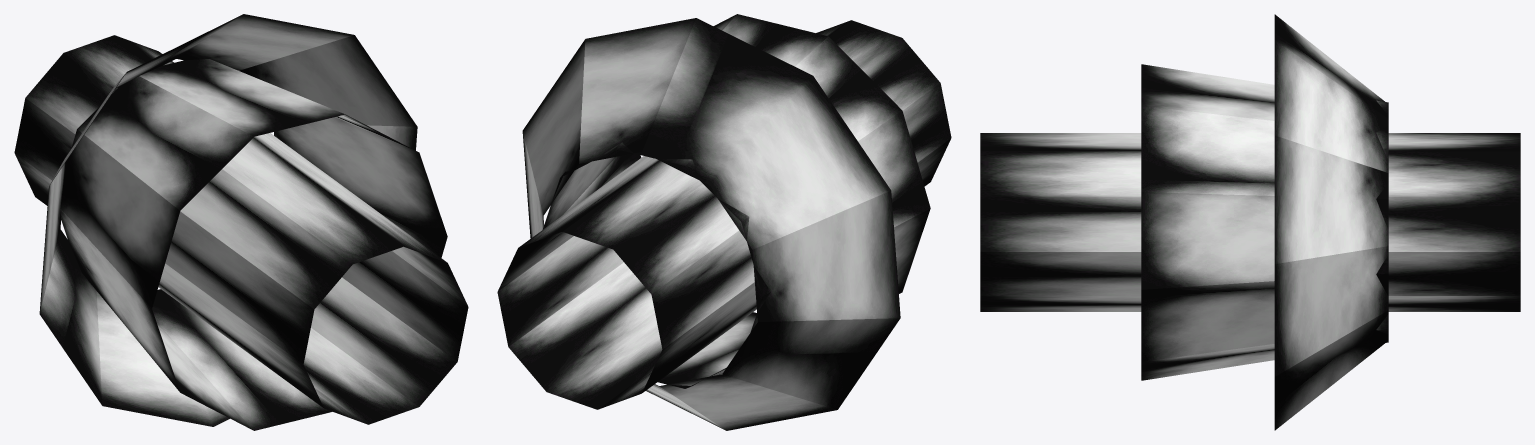
Rendered from tx_boss_guangzhifennu_fire.obj.
3 renders of one model, left to right at view 1: azimuth 30°, elevation 25°; view 2: azimuth 150°, elevation 25°; view 3: azimuth 270°, elevation 25°, orthographic. The views are drawn at different scales.
Parts seen in each view (by area): view 1: Cone02, Cone03, Cone01; view 2: Cone01, Cone02, Cone03; view 3: Cone02, Cone03, Cone01.
Part boxes in pixels (left/top/right/bottom): Cone02: left=14, top=35, right=468, bottom=424; Cone03: left=60, top=59, right=447, bottom=430; Cone01: left=39, top=14, right=417, bottom=426; Cone01: left=522, top=18, right=900, bottom=430; Cone02: left=497, top=20, right=951, bottom=409; Cone03: left=542, top=14, right=930, bottom=388; Cone02: left=980, top=133, right=1520, bottom=311; Cone03: left=1141, top=64, right=1388, bottom=380; Cone01: left=1274, top=14, right=1388, bottom=430.
Size of the model in its own units: 104 by 106 by 137.
1 material, 1 textured.
